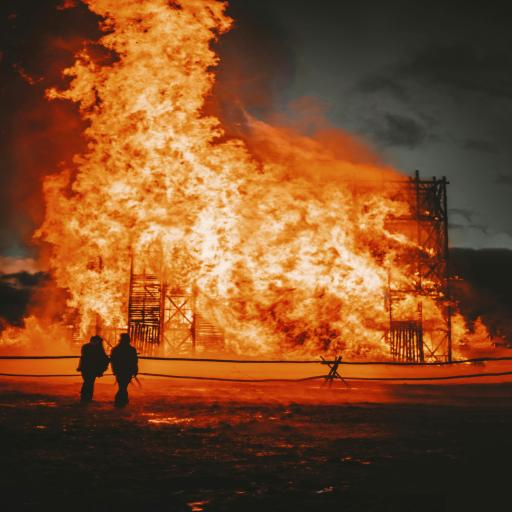buildingfire: (4, 3, 512, 401)
